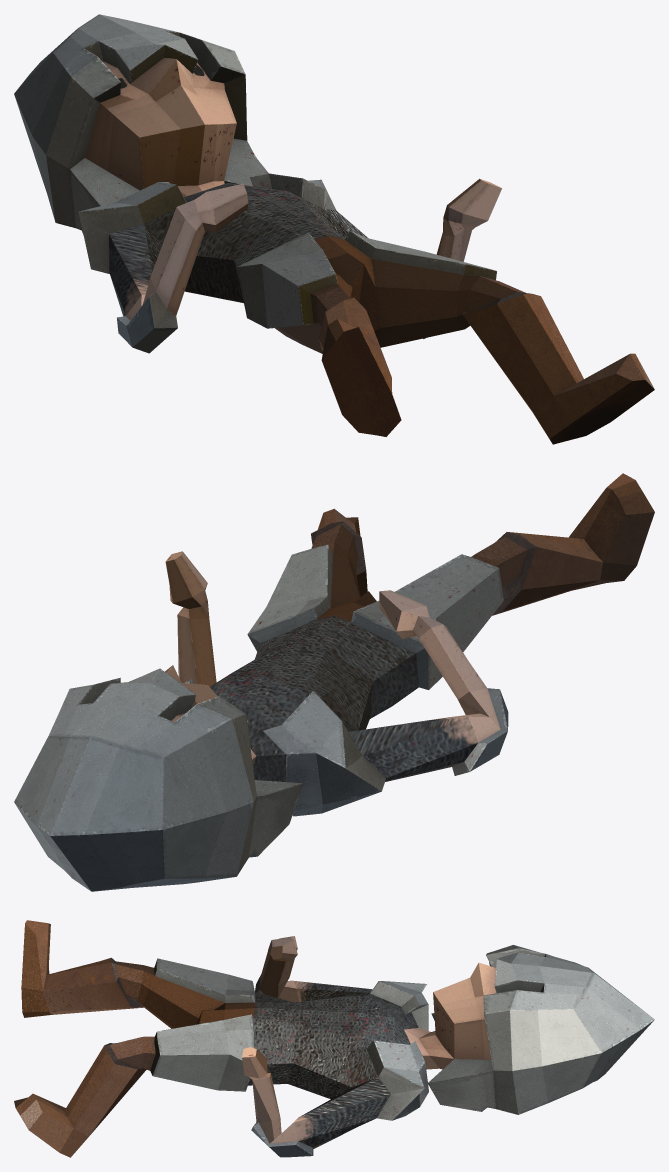
File: Walk_Soldier_8.obj
3 views of the same model, one above another, from view 1: azimuth 30°, elevation 25°; view 2: azimuth 150°, elevation 25°; view 3: azimuth 270°, elevation 25° (orthographic). The views are drawn at different scales.
Parts seen in each view (by area): view 1: Soldado_LowPolySTD; view 2: Soldado_LowPolySTD; view 3: Soldado_LowPolySTD.
Boxes of the visible parts, x1,y1,x2,y2 form: Soldado_LowPolySTD: (14,14,654,444); Soldado_LowPolySTD: (14,473,654,891); Soldado_LowPolySTD: (14,920,654,1157).
Bounding box in the file's own units: 1.4 × 0.8062 × 2.96.
